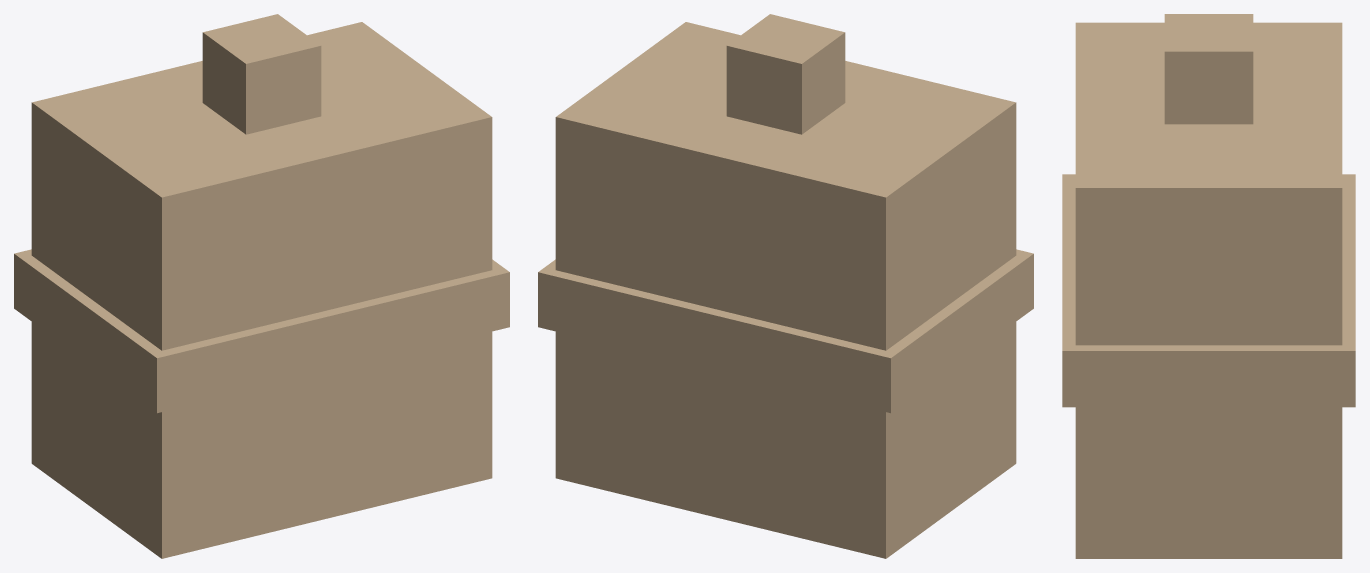
The model's file is bundle.glb.
3 renders of one model, left to right at view 1: azimuth 30°, elevation 25°; view 2: azimuth 150°, elevation 25°; view 3: azimuth 270°, elevation 25°, orthographic. The views are drawn at different scales.
Parts seen in each view (by area): view 1: bundle_sack, bundle_wood; view 2: bundle_sack, bundle_wood; view 3: bundle_sack, bundle_wood.
Boxes of the visible parts, left/top/right/bottom form: bundle_sack: left=31, top=14, right=492, bottom=558; bundle_wood: left=14, top=249, right=509, bottom=413; bundle_sack: left=555, top=14, right=1016, bottom=558; bundle_wood: left=538, top=249, right=1033, bottom=413; bundle_sack: left=1075, top=14, right=1342, bottom=558; bundle_wood: left=1062, top=174, right=1355, bottom=407.
Size of the model in its own units: 0.47 by 0.55 by 0.33.
